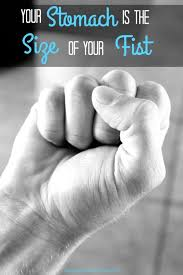fist: (22, 73, 164, 226)
